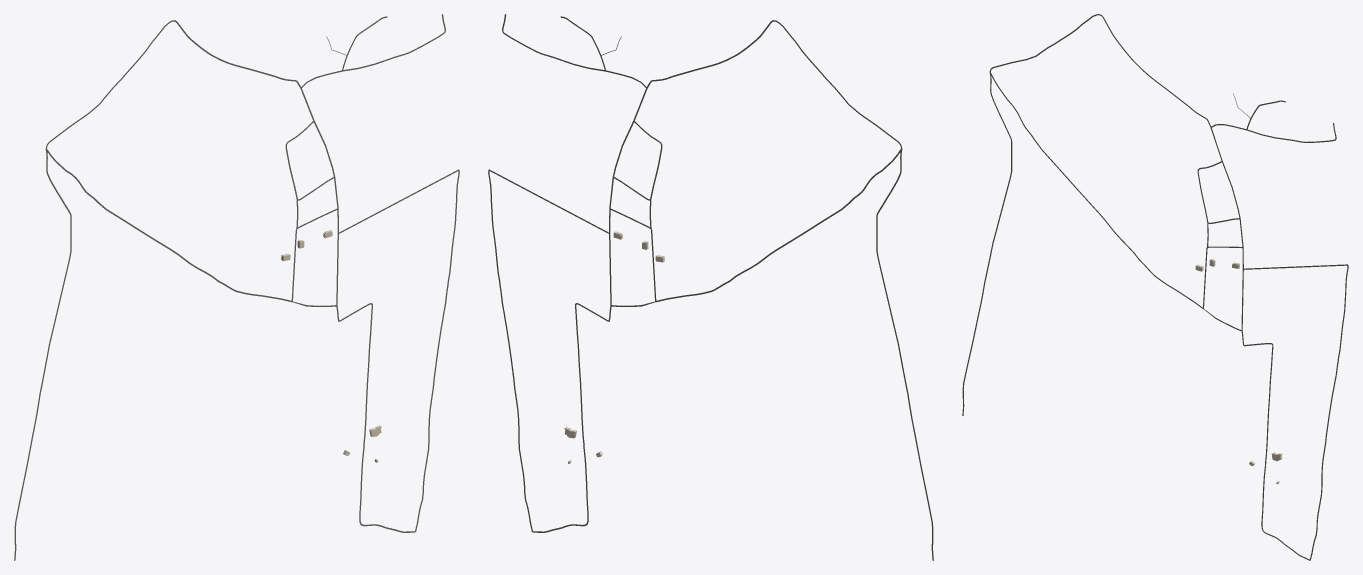
The model's file is irbid_3585_3249.glb.
3 renders of one model, left to right at view 1: azimuth 30°, elevation 25°; view 2: azimuth 150°, elevation 25°; view 3: azimuth 330°, elevation 25°, orthographic. The views are drawn at different scales.
Visible parts, largest first — view 1: Road, Road .004, Road .002, Road .003; view 2: Road, Road .004, Road .002, Road .003; view 3: Road, Road .004, Road .002, Road .003.
Boxes of the visible parts, <box> form: Road: <box>14,20,295,560</box>; Road .004: <box>415,170,459,531</box>; Road .002: <box>47,149,292,302</box>; Road .003: <box>341,303,415,532</box>; Road: <box>652,20,933,560</box>; Road .004: <box>488,170,532,531</box>; Road .002: <box>655,149,901,302</box>; Road .003: <box>532,303,606,532</box>; Road: <box>962,14,1205,415</box>; Road .004: <box>1309,265,1348,560</box>; Road .002: <box>990,72,1202,308</box>; Road .003: <box>1246,343,1310,560</box>.
Bounding box in the file's own units: 1062 × 1302 × 8.7.
